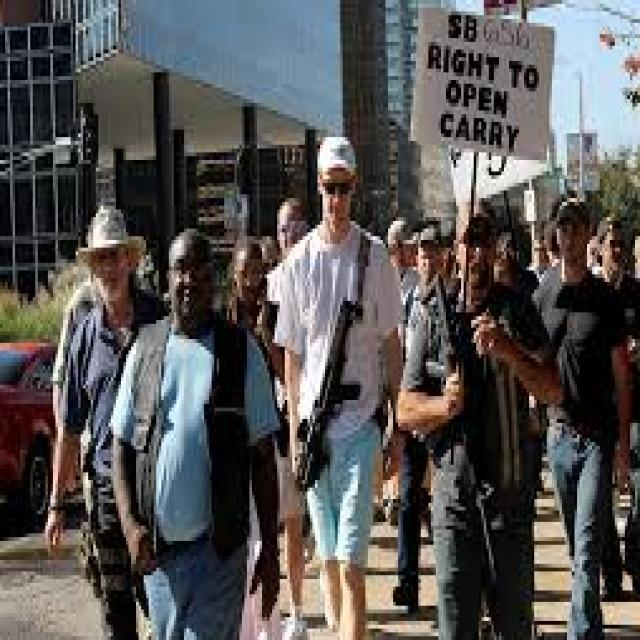gun: (410, 274, 522, 596), (291, 272, 384, 499)
